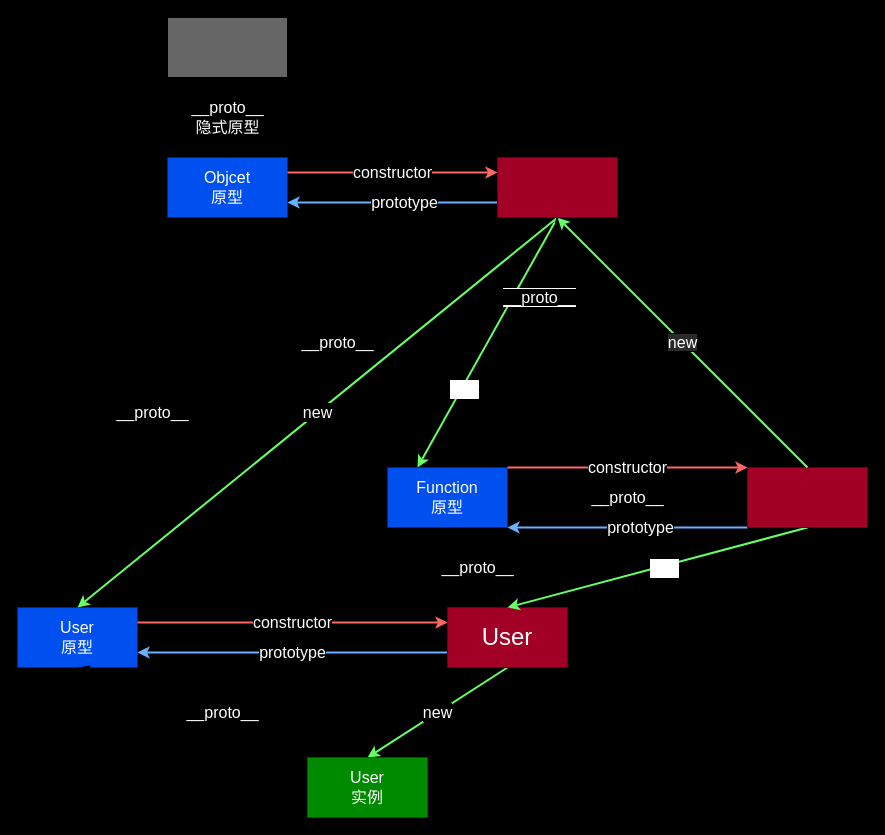
The diagram is 885 pixels wide and 835 high, and some of its shapes have lost their labels. The centre of each missing label's shape, as x and y in pixels:
"Function" goes at [807,497].
"Null" goes at [227,47].
"Object" goes at [557,187].
